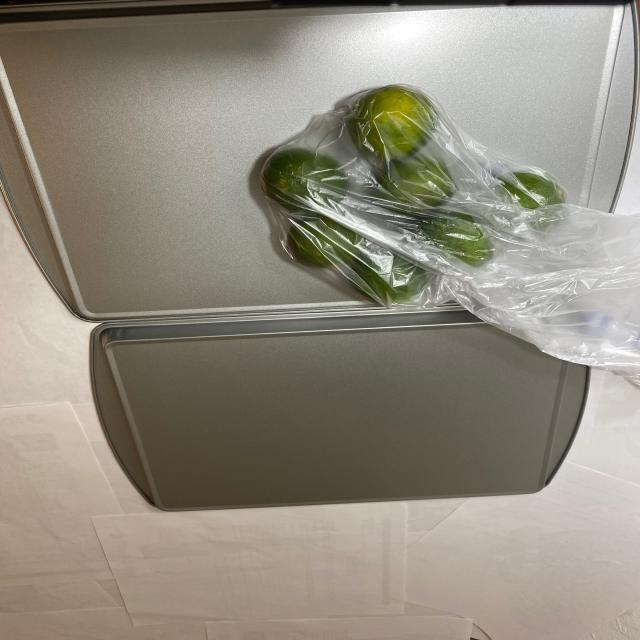lemon: (262, 86, 559, 305)
